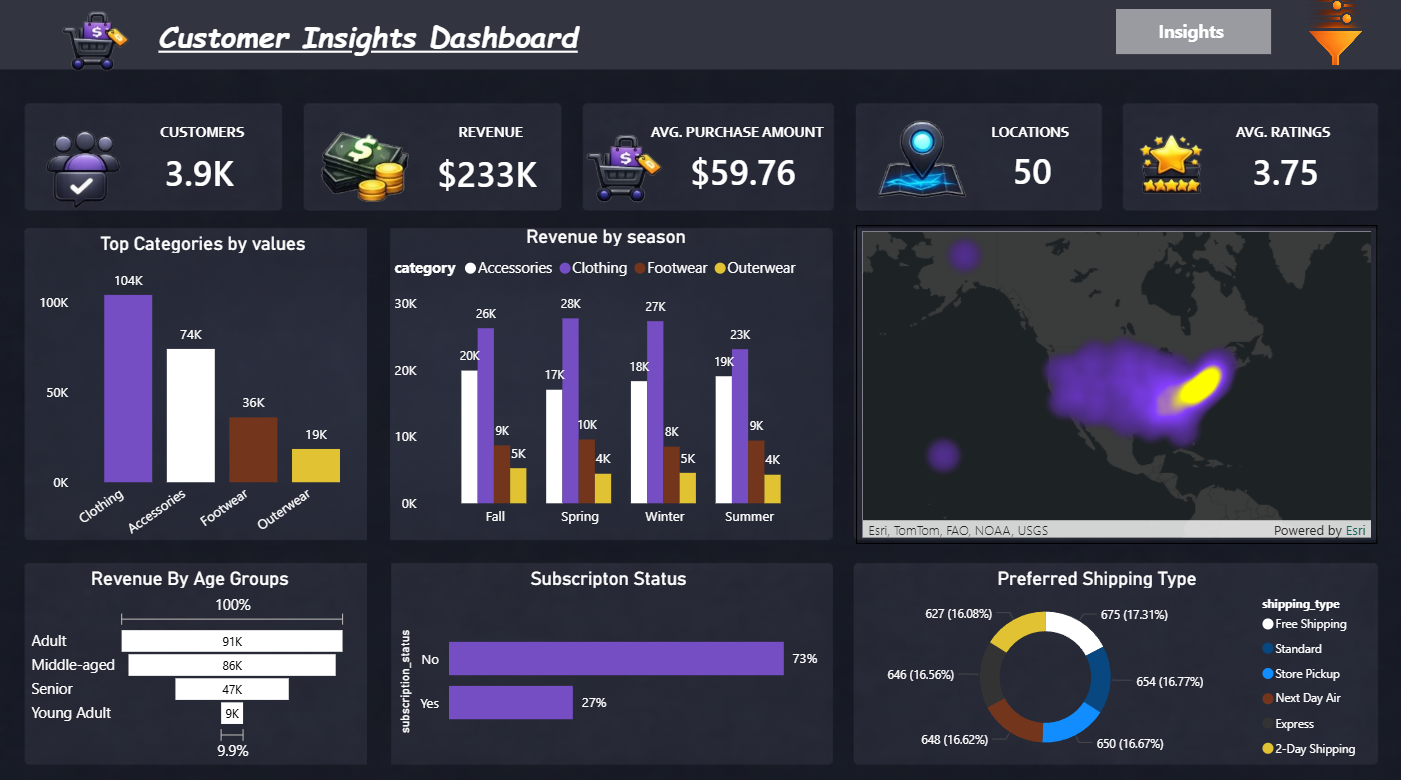

This screenshot's page, from the dashboard's own definition file:
{"tool":"powerbi","page":{"name":"Home","canvas":[1280,720],"ordinal":0},"visuals":[{"type":"shape","box":[0,0,1280,67.5],"z":0},{"type":"shape","box":[0,76.2,341.2,503.8],"z":0,"group":"g1"},{"type":"cardVisual","title":"CUSTOMERS","fields":{"Data":["CountNonNull(customer_behavior customer.customer_id)"]},"box":[26.2,122.5,225,76.2],"z":1000},{"type":"slicer","fields":{"Values":["customer_behavior customer.category"]},"box":[12.5,145,147.5,61.2],"z":1000,"group":"g1"},{"type":"textbox","box":[107.8,110,156.7,43.3],"z":2000},{"type":"slicer","fields":{"Values":["customer_behavior customer.age_group"]},"box":[171.2,148.7,147.5,61.2],"z":2000,"group":"g1"},{"type":"cardVisual","title":"CUSTOMERS","fields":{"Data":["Sum(customer_behavior customer.purchase_amount)"]},"box":[302.2,123.3,225.6,76.7],"z":3000},{"type":"slicer","fields":{"Values":["customer_behavior customer.gender"]},"box":[12.5,223.7,147.5,61.2],"z":3000,"group":"g1"},{"type":"textbox","box":[370,110,157.8,43.3],"z":4000},{"type":"slicer","fields":{"Values":["customer_behavior customer.item_purchased"]},"box":[171.2,227.4,147.5,61.2],"z":4000,"group":"g1"},{"type":"cardVisual","title":"CUSTOMERS","fields":{"Data":["Avg(customer_behavior customer.purchase_amount)"]},"box":[537.4,122.5,226,75.9],"z":5000},{"type":"slicer","fields":{"Values":["customer_behavior customer.frequency_of_purchases"]},"box":[12.5,297.4,147.5,61.2],"z":5000,"group":"g1"},{"type":"textbox","box":[583,110.4,180.2,43.3],"z":6000},{"type":"slicer","fields":{"Values":["customer_behavior customer.location"]},"box":[171.2,301.2,147.5,61.2],"z":6000,"group":"g1"},{"type":"cardVisual","title":"CUSTOMERS","fields":{"Data":["customer_behavior customer.Total_Locations"]},"box":[770,122.2,225.6,75.6],"z":7000},{"type":"slicer","fields":{"Values":["customer_behavior customer.payment_method"]},"box":[12.5,376.2,147.5,61.2],"z":7000,"group":"g1"},{"type":"textbox","box":[861.1,110,156.7,43.3],"z":8000},{"type":"slicer","fields":{"Values":["customer_behavior customer.review_rating"]},"box":[171.2,380,147.5,61.2],"z":8000,"group":"g1"},{"type":"cardVisual","title":"CUSTOMERS","fields":{"Data":["Avg(customer_behavior customer.review_rating)"]},"box":[1011.5,122.8,226.1,76],"z":9000},{"type":"slicer","fields":{"Values":["customer_behavior customer.season"]},"box":[12.5,458.7,147.5,61.2],"z":9000,"group":"g1"},{"type":"textbox","box":[1091,110.4,156.4,43.3],"z":10000},{"type":"slicer","fields":{"Values":["customer_behavior customer.shipping_type"]},"box":[171.2,462.4,147.5,61.2],"z":10000,"group":"g1"},{"type":"textbox","box":[128.8,91.2,87.5,43.8],"z":11000,"group":"g1"},{"type":"funnel","title":"Revenue By Age Groups","fields":{"Category":["customer_behavior customer.age_group"],"Y":["Sum(customer_behavior customer.purchase_amount)"]},"box":[26.7,520,297.8,181.1],"z":11000},{"type":"image","box":[246.2,92.4,73.8,53.8],"z":12000,"group":"g1"},{"type":"donutChart","title":"Preferred Shipping Type","fields":{"Category":["customer_behavior customer.shipping_type"],"Y":["CountNonNull(customer_behavior customer.customer_id)"]},"box":[750.9,520.3,498.2,181.1],"z":12000},{"type":"esriVisual","fields":{"Location":["customer_behavior customer.location"],"Size":["Sum(customer_behavior customer.purchase_amount)"]},"box":[780.9,209.4,474.4,289.7],"z":13000},{"type":"clusteredColumnChart","title":"Revenue by season","fields":{"Category":["customer_behavior customer.season"],"Y":["Sum(customer_behavior customer.purchase_amount)"],"Series":["customer_behavior customer.category"]},"box":[356.7,208.9,394.4,283.3],"z":14000},{"type":"clusteredBarChart","title":"Subscripton Status","fields":{"Category":["customer_behavior customer.subscription_status"],"Y":["Sum(customer_behavior customer.customer_id)"]},"box":[361.1,520,390,181.1],"z":15000},{"type":"image","box":[1153.8,2.5,126.2,61.2],"z":16000},{"type":"columnChart","title":"Top Categories by values","fields":{"Y":["Sum(customer_behavior customer.purchase_amount)"],"Category":["customer_behavior customer.category"]},"box":[32.5,215,308.8,297.5],"z":17000},{"type":"actionButton","box":[1017.5,12.5,141.2,41.2],"z":19000},{"type":"textbox","box":[1051.2,17.5,78.8,32.5],"z":20000},{"type":"image","box":[336.7,200,21.1,307.8],"z":21000},{"type":"image","box":[336.7,510,22.2,202.2],"z":22000},{"type":"textbox","box":[142.2,14.4,412.2,53.3],"z":23000},{"type":"image","box":[26.7,104.4,98.9,96.7],"z":24000},{"type":"image","box":[285.6,98.9,102.2,97.8],"z":25000},{"type":"image","box":[791.1,98.9,102.2,96.7],"z":26000},{"type":"image","box":[517.8,110,102.2,88.9],"z":27000},{"type":"image","box":[1017.8,98.9,98.9,96.7],"z":28000},{"type":"image","box":[17.8,0,142.2,77.8],"z":30000},{"type":"group","id":"g1","title":"Group 1","box":[0,76.2,341.2,503.8],"z":30500}]}

Visuals, with their boxes in screenshot pixels (x1, y1, x2, y2), scaled from the page's 1280x720 canvas onto the 1401x780 screenshot:
shape: bbox=(0, 0, 1400, 73)
shape: bbox=(0, 83, 373, 628)
"CUSTOMERS" cardVisual: bbox=(29, 133, 275, 215)
slicer - customer_behavior customer.category: bbox=(14, 157, 175, 223)
textbox: bbox=(118, 119, 290, 166)
slicer - customer_behavior customer.age_group: bbox=(187, 161, 349, 227)
"CUSTOMERS" cardVisual: bbox=(331, 134, 578, 217)
slicer - customer_behavior customer.gender: bbox=(14, 242, 175, 309)
textbox: bbox=(405, 119, 578, 166)
slicer - customer_behavior customer.item_purchased: bbox=(187, 246, 349, 313)
"CUSTOMERS" cardVisual: bbox=(588, 133, 836, 215)
slicer - customer_behavior customer.frequency_of_purchases: bbox=(14, 322, 175, 388)
textbox: bbox=(638, 120, 835, 167)
slicer - customer_behavior customer.location: bbox=(187, 326, 349, 393)
"CUSTOMERS" cardVisual: bbox=(843, 132, 1090, 214)
slicer - customer_behavior customer.payment_method: bbox=(14, 408, 175, 474)
textbox: bbox=(943, 119, 1114, 166)
slicer - customer_behavior customer.review_rating: bbox=(187, 412, 349, 478)
"CUSTOMERS" cardVisual: bbox=(1107, 133, 1355, 215)
slicer - customer_behavior customer.season: bbox=(14, 497, 175, 563)
textbox: bbox=(1194, 120, 1365, 167)
slicer - customer_behavior customer.shipping_type: bbox=(187, 501, 349, 567)
textbox: bbox=(141, 99, 237, 146)
"Revenue By Age Groups" funnel: bbox=(29, 563, 355, 760)
image: bbox=(269, 100, 350, 158)
"Preferred Shipping Type" donutChart: bbox=(822, 564, 1367, 760)
esriVisual - customer_behavior customer.location x Sum(customer_behavior customer.purchase_amount): bbox=(855, 227, 1374, 541)
"Revenue by season" clusteredColumnChart: bbox=(390, 226, 822, 533)
"Subscripton Status" clusteredBarChart: bbox=(395, 563, 822, 760)
image: bbox=(1263, 3, 1400, 69)
"Top Categories by values" columnChart: bbox=(36, 233, 374, 555)
actionButton: bbox=(1114, 14, 1268, 58)
textbox: bbox=(1151, 19, 1237, 54)
image: bbox=(369, 217, 392, 550)
image: bbox=(369, 552, 393, 772)
textbox: bbox=(156, 16, 607, 73)
image: bbox=(29, 113, 137, 218)
image: bbox=(313, 107, 424, 213)
image: bbox=(866, 107, 978, 212)
image: bbox=(567, 119, 679, 215)
image: bbox=(1114, 107, 1222, 212)
image: bbox=(19, 0, 175, 84)
"Group 1" group: bbox=(0, 83, 373, 628)
